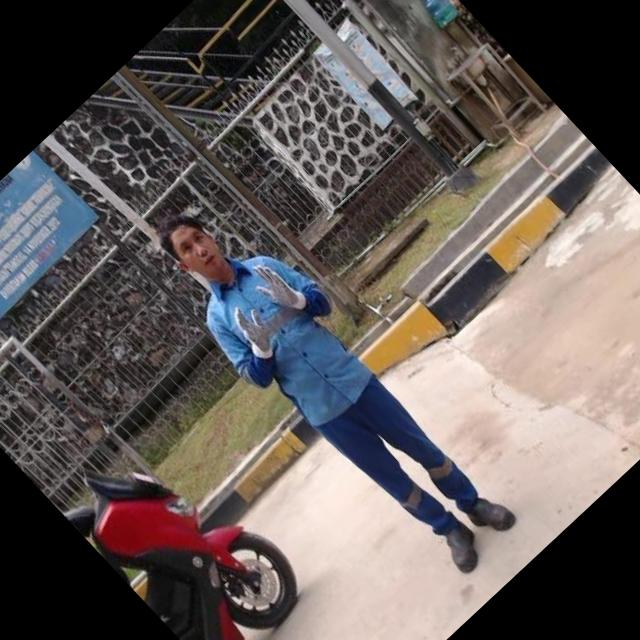vehicle: (112, 150, 559, 613)
work_boots: (462, 484, 528, 550), (430, 513, 495, 579)
